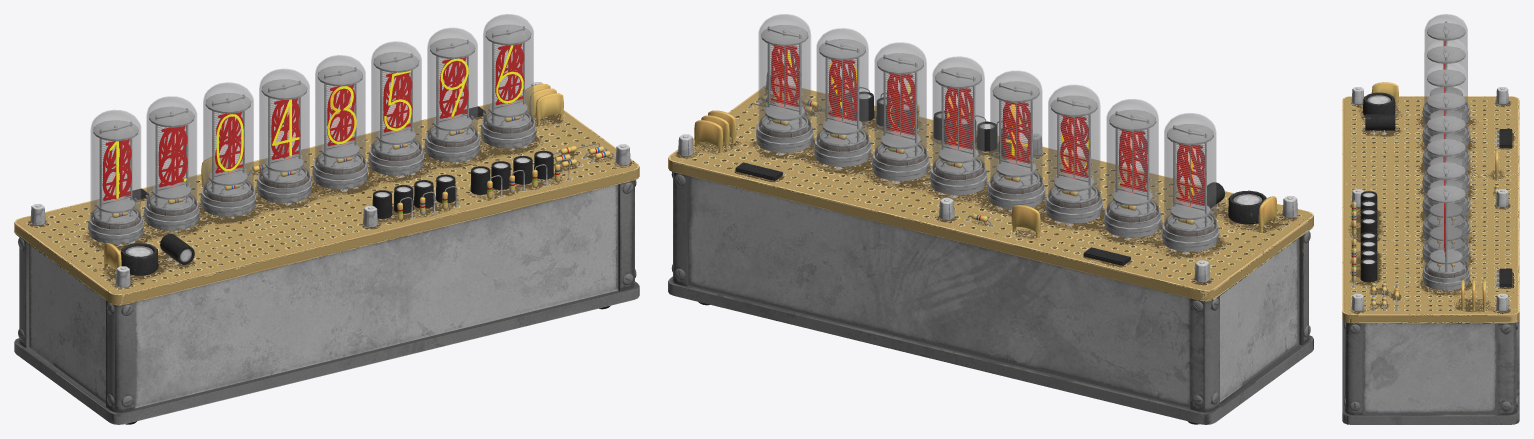
The model's file is sample_model.glb.
3 renders of one model, left to right at view 1: azimuth 30°, elevation 25°; view 2: azimuth 150°, elevation 25°; view 3: azimuth 270°, elevation 25°, orthographic. The views are drawn at different scales.
Visible parts, largest first — view 1: Plane.001, Plane.000, Plane.002; view 2: Plane.001, Plane.000, Plane.002; view 3: Plane.001, Plane.000.
Boxes of the visible parts, <box> form: Plane.001: <box>14,24,639,424</box>; Plane.000: <box>90,14,533,229</box>; Plane.002: <box>109,45,523,198</box>; Plane.001: <box>668,25,1313,424</box>; Plane.000: <box>758,14,1216,236</box>; Plane.002: <box>774,51,1193,199</box>; Plane.001: <box>1342,21,1519,424</box>; Plane.000: <box>1424,14,1467,278</box>.
Size of the model in its own units: 2 by 0.9519 by 0.6846.
3 materials, 3 textured.
